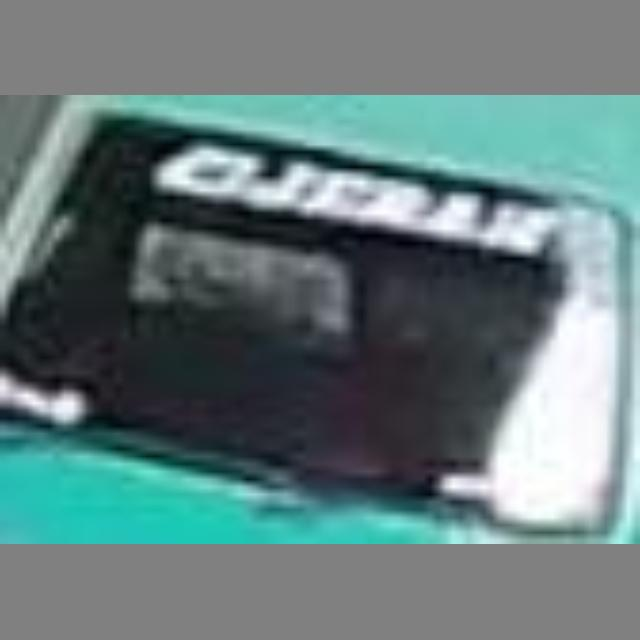tidak-pakai: (122, 217, 350, 392)
